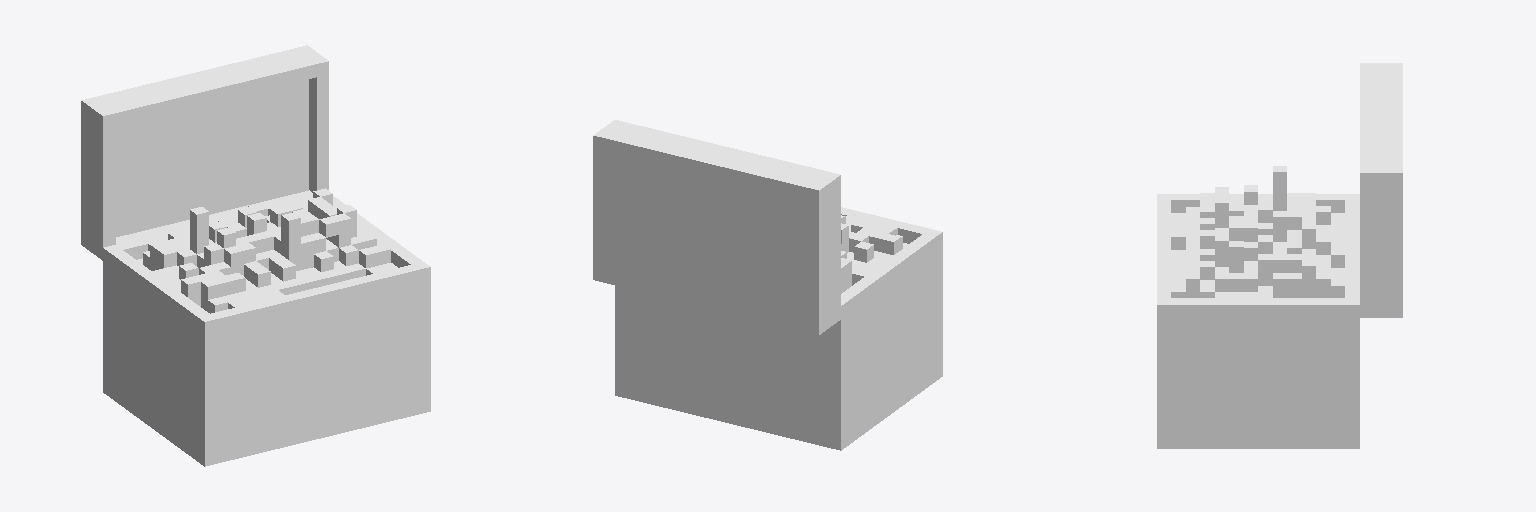
Rendered from GoldBox.obj.
The picture shows the model from 3 angles: view 1: azimuth 30°, elevation 25°; view 2: azimuth 150°, elevation 25°; view 3: azimuth 270°, elevation 25°; orthographic projection.
Parts seen in each view (by area): view 1: object 1; view 2: object 1; view 3: object 1.
Part boxes in pixels (bbox=[...]): object 1: bbox=[81, 45, 430, 466]; object 1: bbox=[593, 120, 942, 450]; object 1: bbox=[1157, 63, 1402, 448].
Bounding box in the file's own units: 1.8 × 2.1 × 1.7.